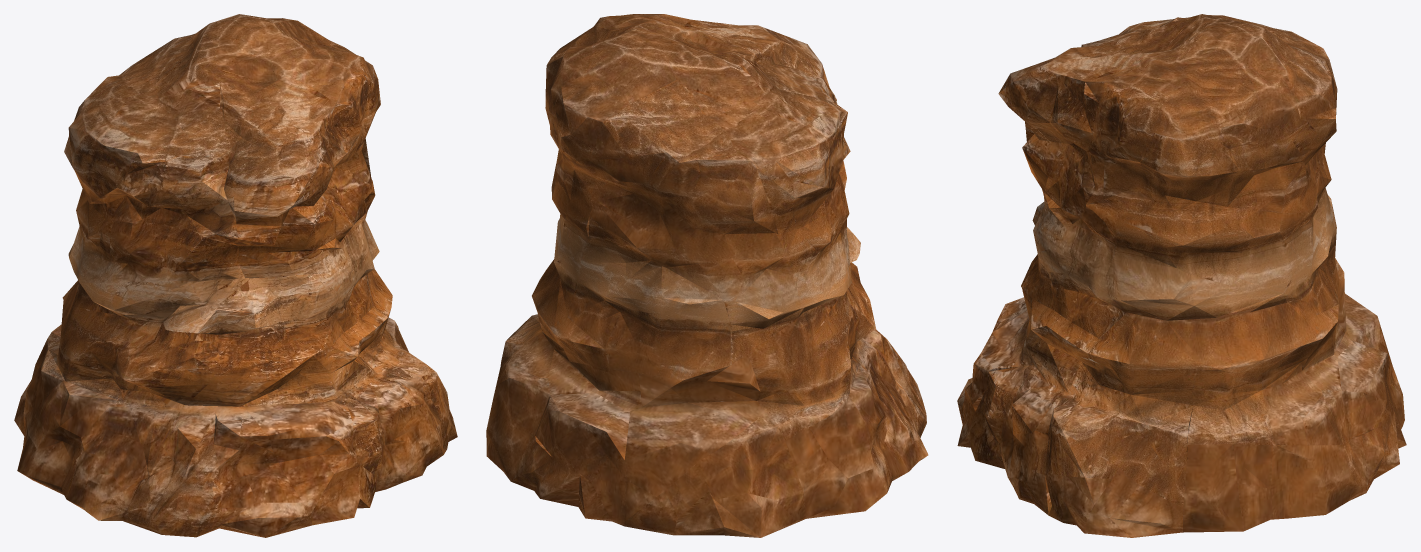
Rendered from de_sandstone_stack.glb.
The picture shows the model from 3 angles, left to right: view 1: azimuth 30°, elevation 25°; view 2: azimuth 150°, elevation 25°; view 3: azimuth 270°, elevation 25°; orthographic projection. The views are drawn at different scales.
Parts seen in each view (by area): view 1: mesh; view 2: mesh; view 3: mesh.
Part boxes in pixels (x1,y1,x2,y2): mesh: [14, 14, 457, 537]; mesh: [486, 14, 928, 537]; mesh: [957, 14, 1406, 537].
Bounding box in the file's own units: 1.87 × 1.87 × 1.79.
1 material, 1 textured.
